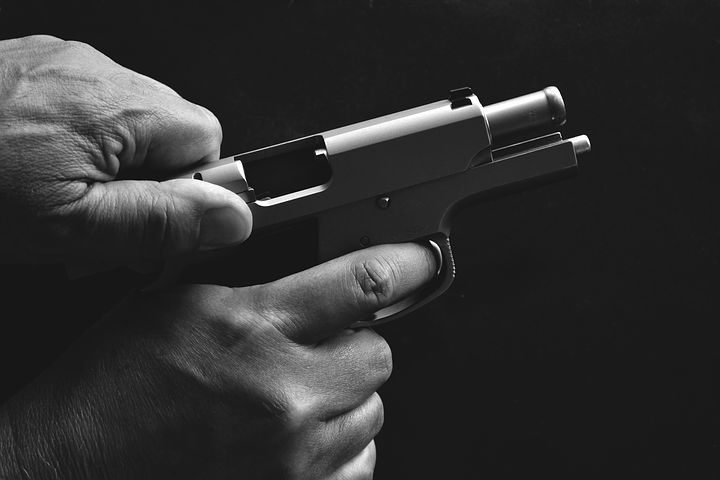gun: (156, 69, 600, 327)
